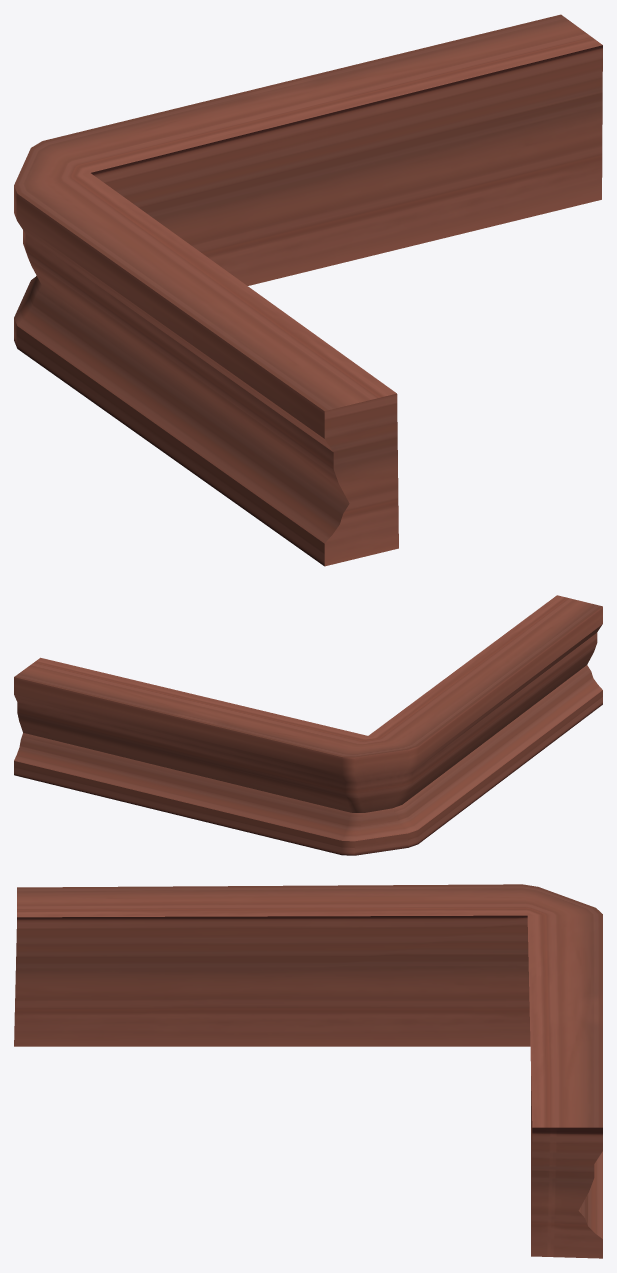
Rendered from Wall_Top_Corner.fbx.
The picture shows the model from 3 angles, top to bottom: view 1: azimuth 30°, elevation 25°; view 2: azimuth 150°, elevation 25°; view 3: azimuth 270°, elevation 25°; orthographic projection. The views are drawn at different scales.
Visible parts, largest first — view 1: pCube108; view 2: pCube108; view 3: pCube108.
Boxes of the visible parts, x1=… form: pCube108: x1=14, y1=14, x2=602, y2=566; pCube108: x1=14, y1=595, x2=602, y2=855; pCube108: x1=14, y1=884, x2=602, y2=1258.
Size of the model in its own units: 1.22 by 1.25 by 0.3065.
